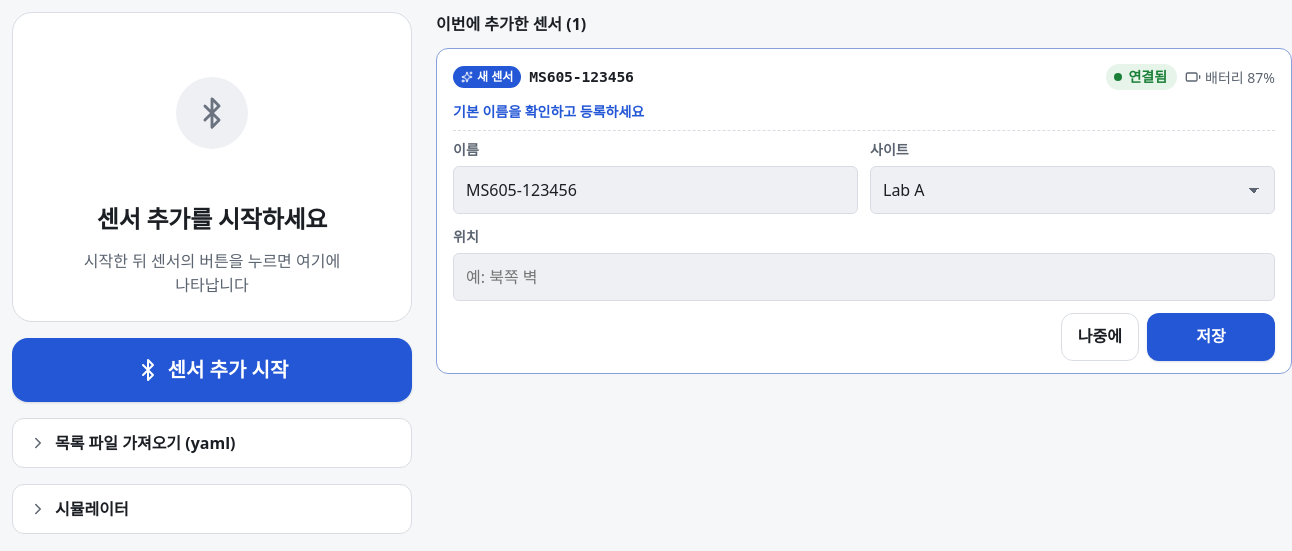
Test: NameSensorForm saving › uses the device MAC suffix when the browser address is synthetic
Check: the field labelled "이름" holds "MS605-123456", box [453,166,858,214]
Click the button "저장" at (1211, 337), box [1147,313,1275,361]
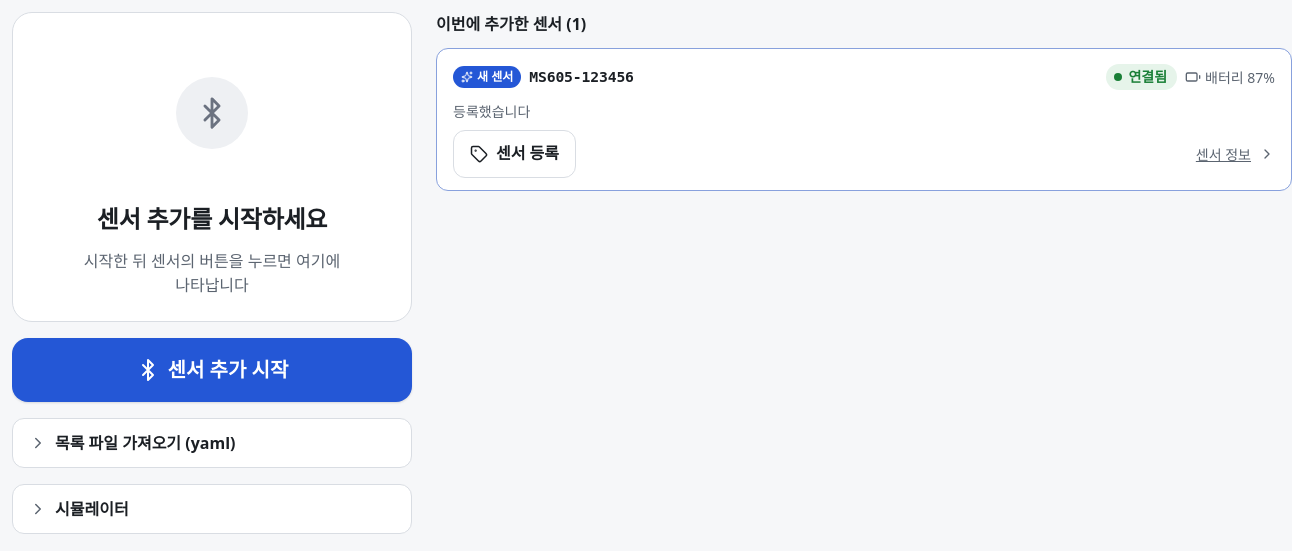
Check: the text "등록했습니다" is shown, box [453,102,530,121]
